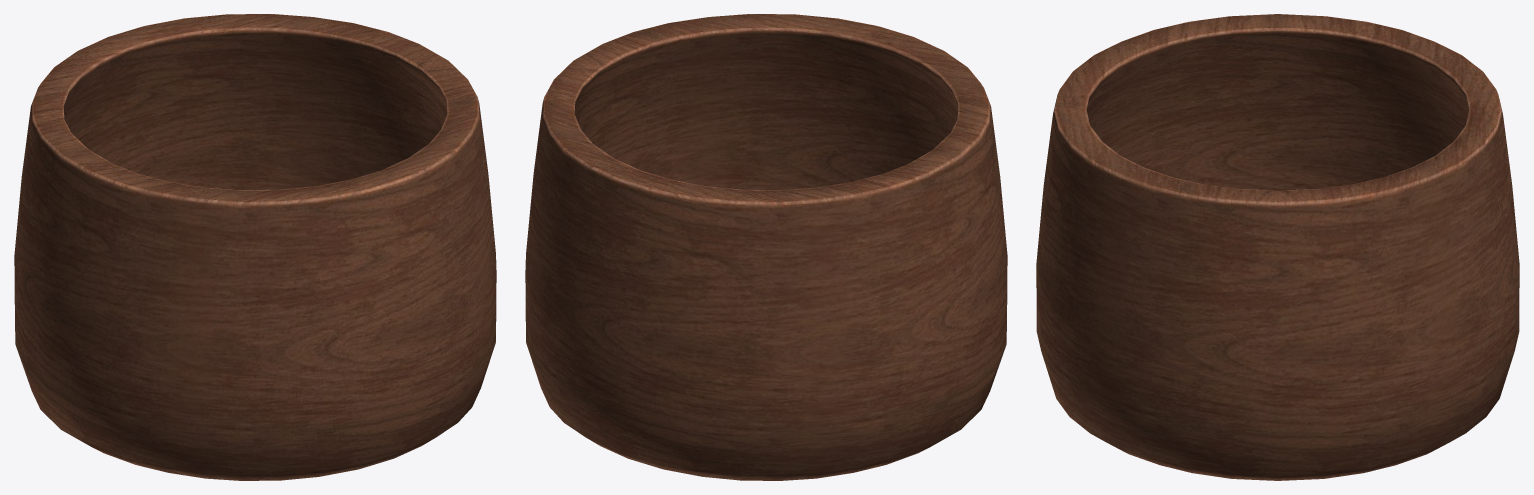
3 views of the same model, side by side, from view 1: azimuth 30°, elevation 25°; view 2: azimuth 150°, elevation 25°; view 3: azimuth 270°, elevation 25° (orthographic).
Visible parts, largest first — view 1: RetopoGroup1; view 2: RetopoGroup1; view 3: RetopoGroup1.
Boxes of the visible parts, x1,y1,x2,y2 form: RetopoGroup1: (14,14,496,480); RetopoGroup1: (525,14,1007,480); RetopoGroup1: (1036,14,1519,480).
Bounding box in the file's own units: 393 × 259 × 393.
Materials: 1 (1 with a texture image).
